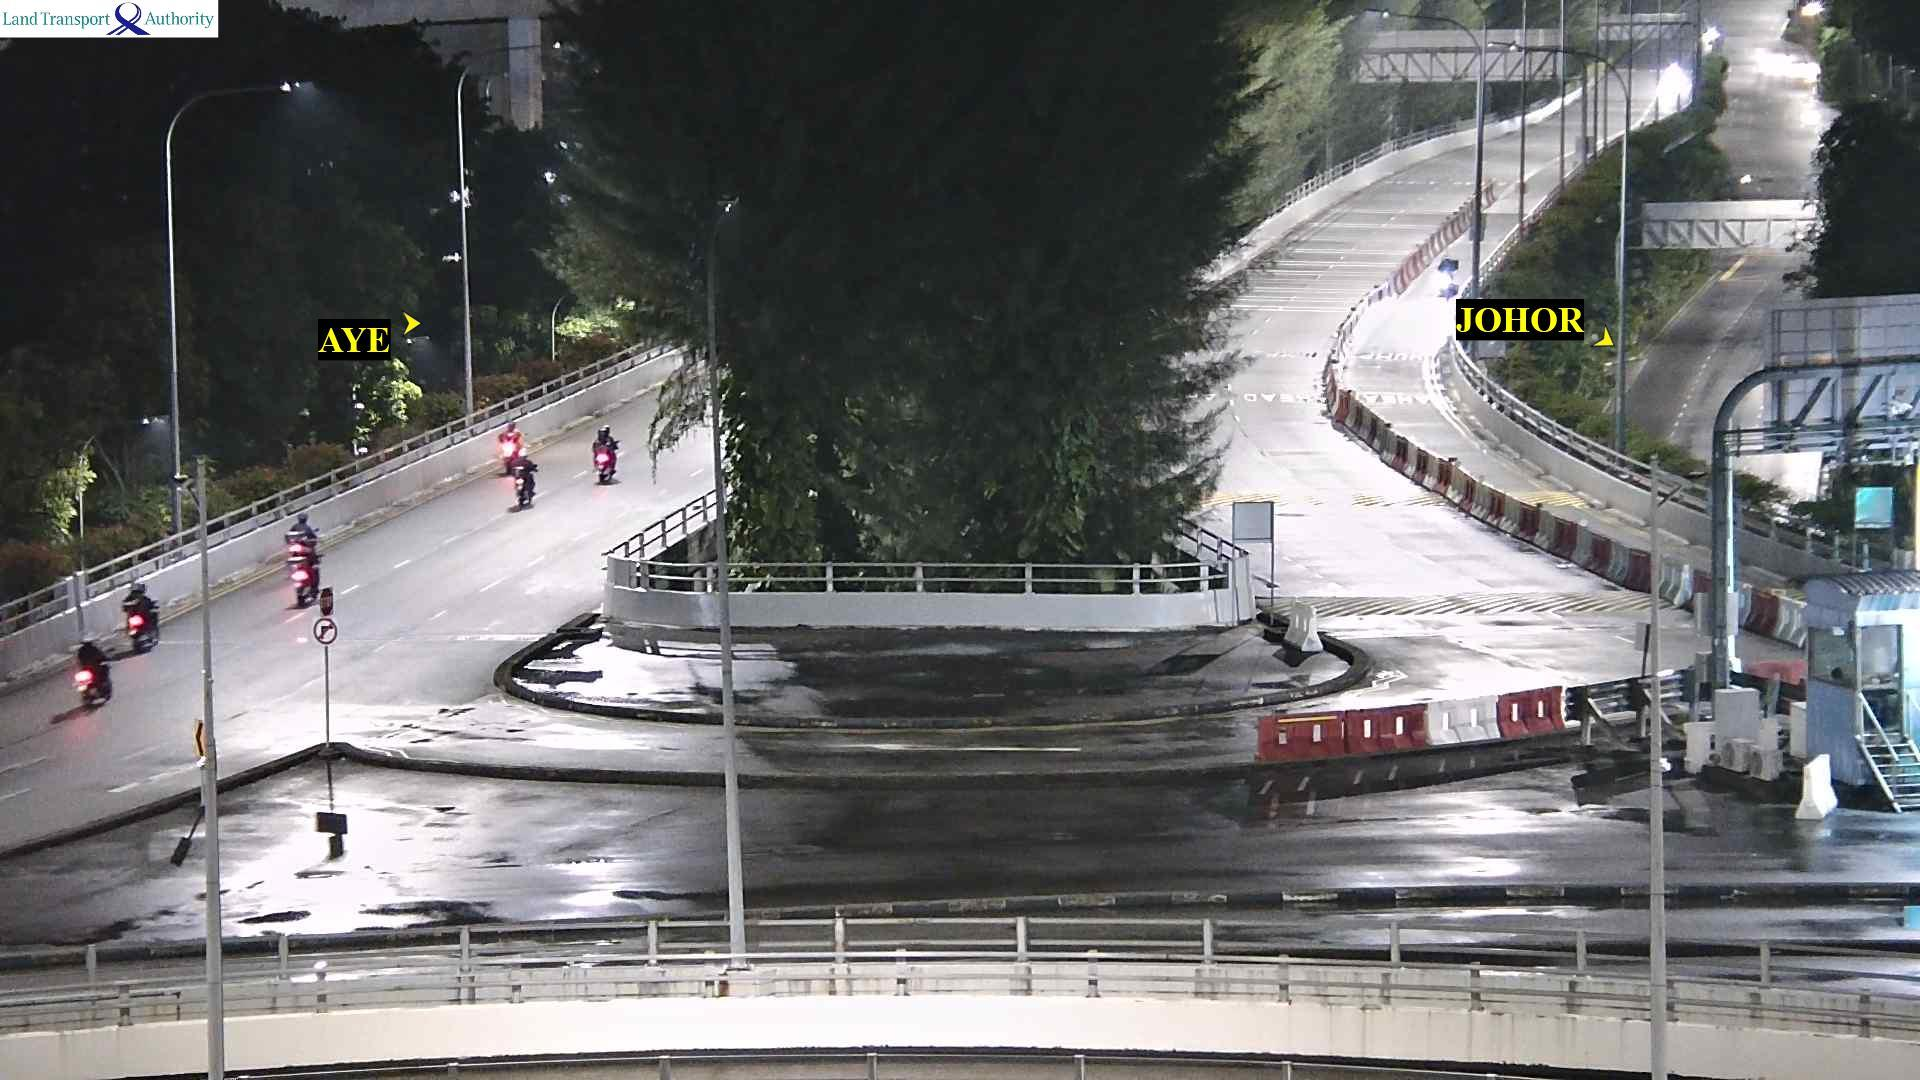vehicle-secondlink-johor: (1662, 66, 1690, 103), (1436, 256, 1459, 301), (1703, 26, 1718, 52)
vehicle-secondlink-singapore: (123, 584, 160, 654), (78, 638, 113, 706), (285, 513, 320, 567), (593, 425, 621, 484), (513, 448, 538, 510), (292, 554, 319, 606), (498, 422, 522, 473)
